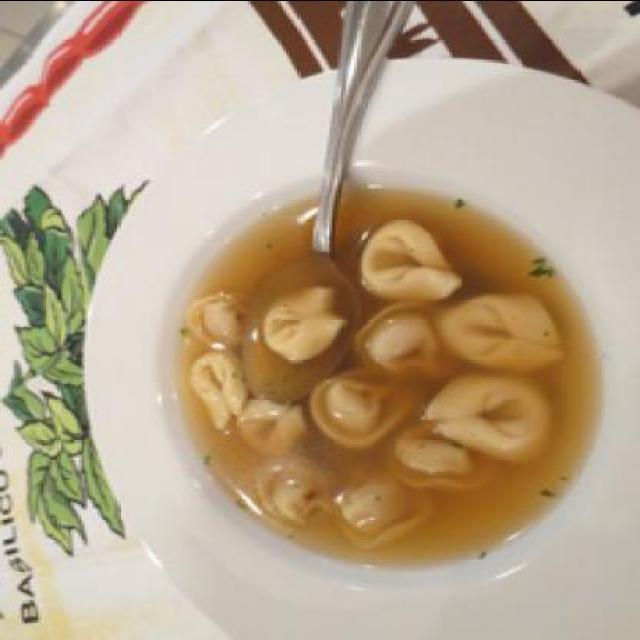Tortellini in broth: (177, 220, 555, 526)
